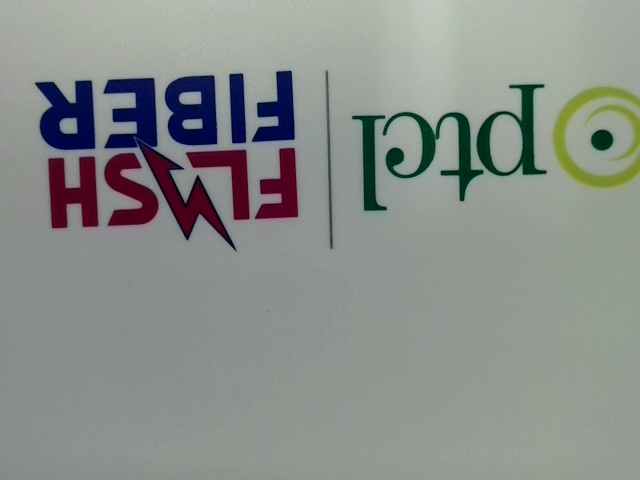BF_PTCL: (341, 76, 639, 225)
